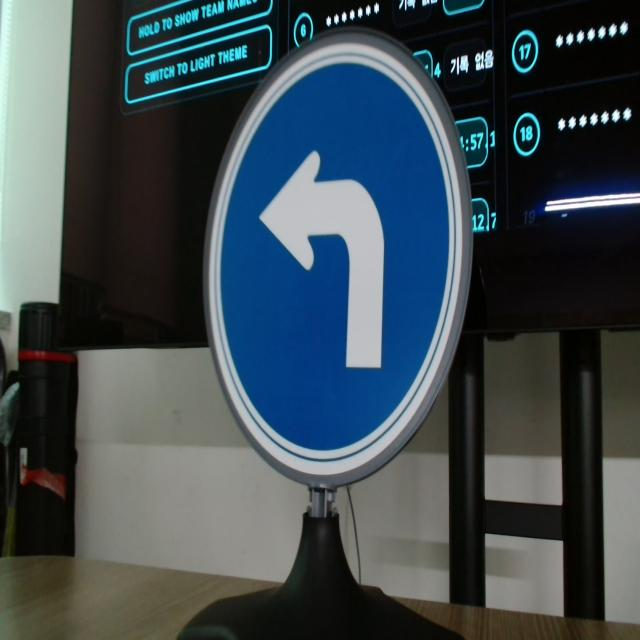left_direction: (191, 14, 477, 519)
